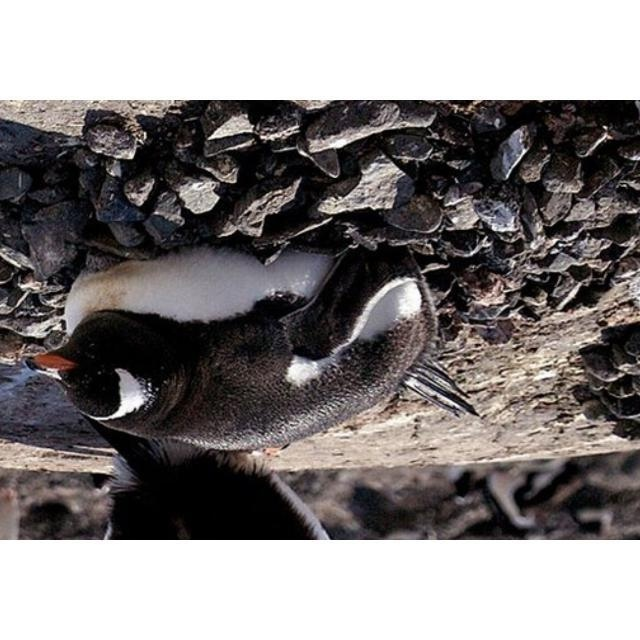penguin: (26, 237, 478, 449)
